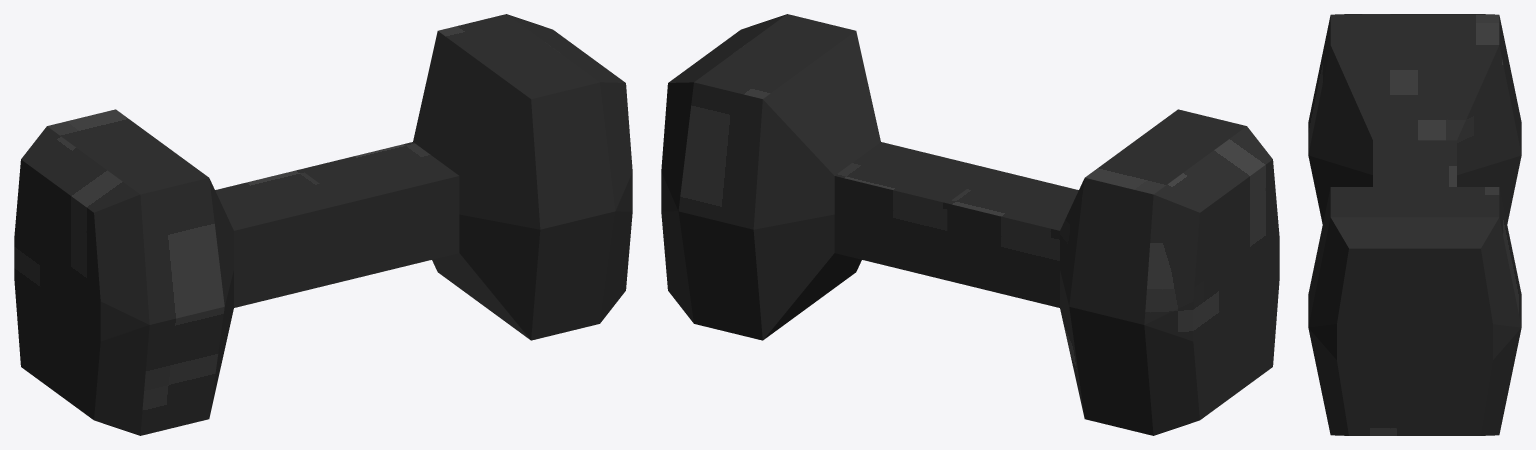
File: dumbell.fbx
3 renders of one model, left to right at view 1: azimuth 30°, elevation 25°; view 2: azimuth 150°, elevation 25°; view 3: azimuth 270°, elevation 25°, orthographic. The views are drawn at different scales.
Parts seen in each view (by area): view 1: Cube; view 2: Cube; view 3: Cube.
Boxes of the visible parts, <box> form: Cube: <box>14,14,632,435</box>; Cube: <box>661,14,1279,435</box>; Cube: <box>1308,14,1521,435</box>.
Bounding box in the file's own units: 393 × 171 × 151.
1 material, 1 textured.
